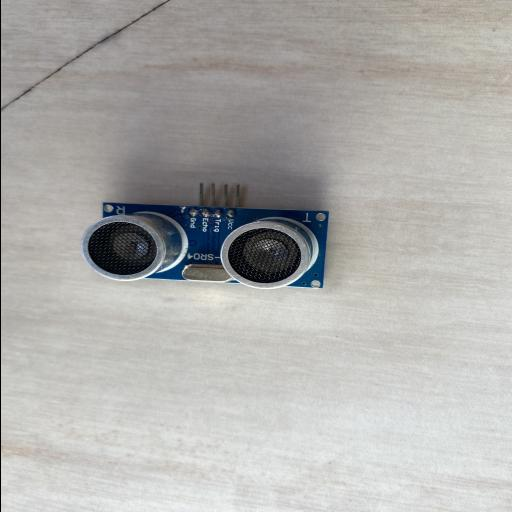Ultrasonic Sensor: (78, 182, 330, 290)
